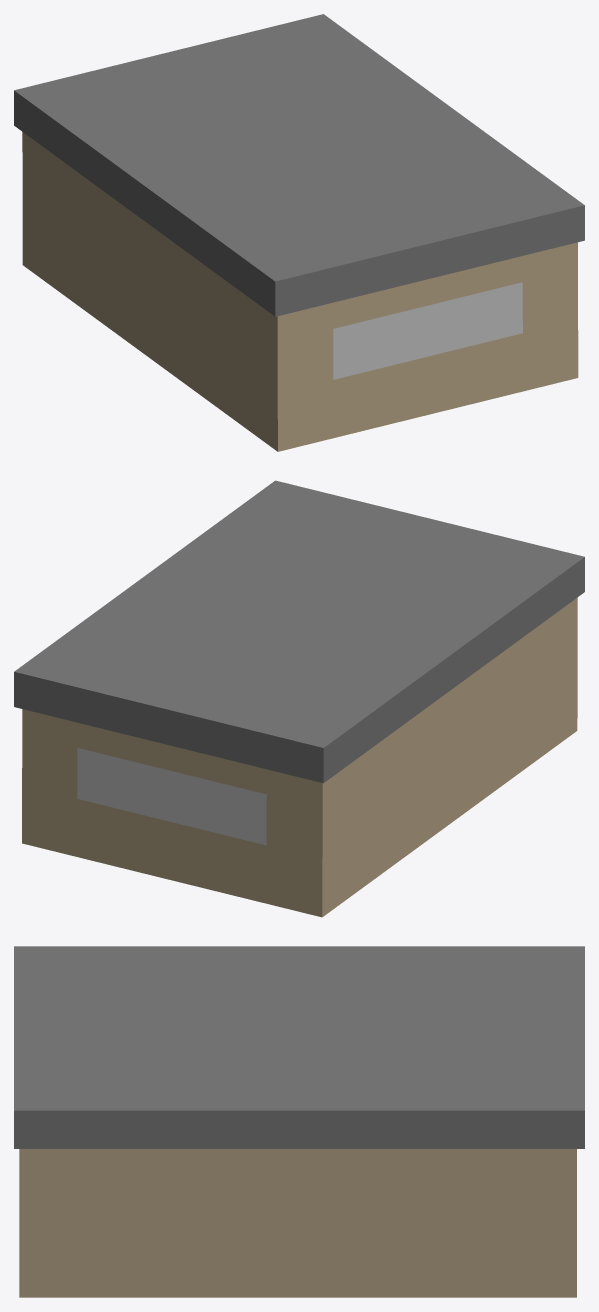
Rendered from SM_Cardboard_02.fbx.
3 renders of one model, top to bottom at view 1: azimuth 30°, elevation 25°; view 2: azimuth 150°, elevation 25°; view 3: azimuth 270°, elevation 25°, orthographic. The views are drawn at different scales.
Visible parts, largest first — view 1: SM_Cardboard_02; view 2: SM_Cardboard_02; view 3: SM_Cardboard_02.
Boxes of the visible parts, x1,y1,x2,y2 form: SM_Cardboard_02: (14, 14, 584, 451); SM_Cardboard_02: (14, 480, 584, 917); SM_Cardboard_02: (14, 946, 584, 1297).
Size of the model in its own units: 53.29 by 28.63 by 77.86.
